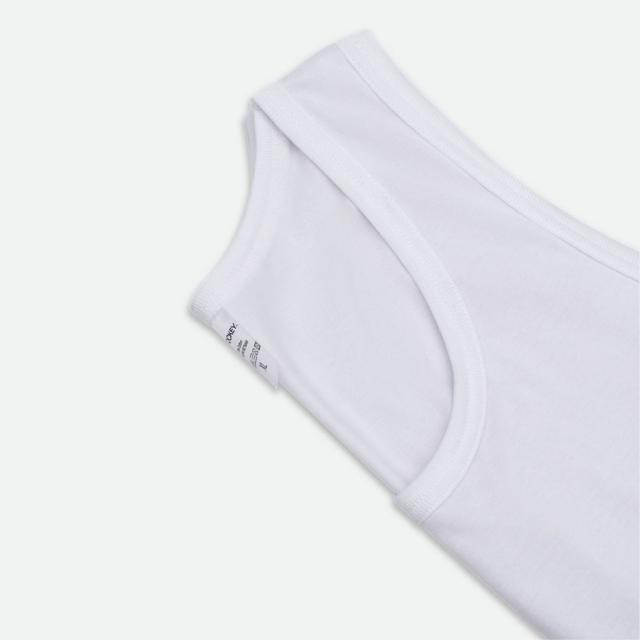Shirt: (185, 28, 640, 640)
